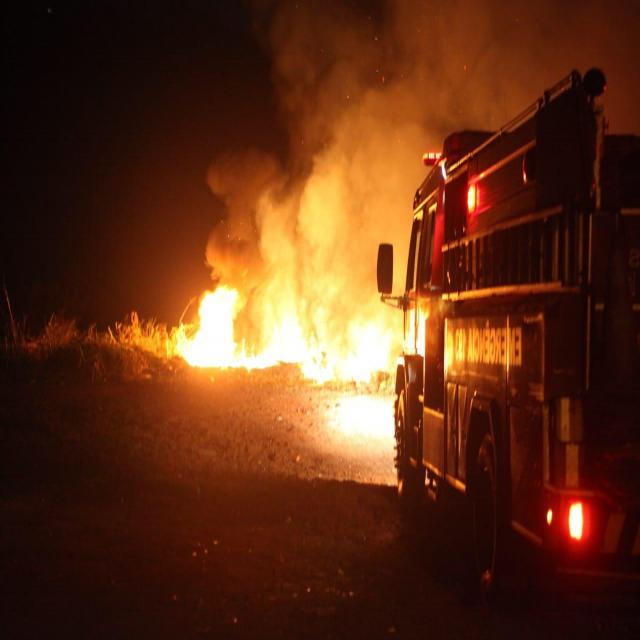fire: (134, 47, 444, 396)
